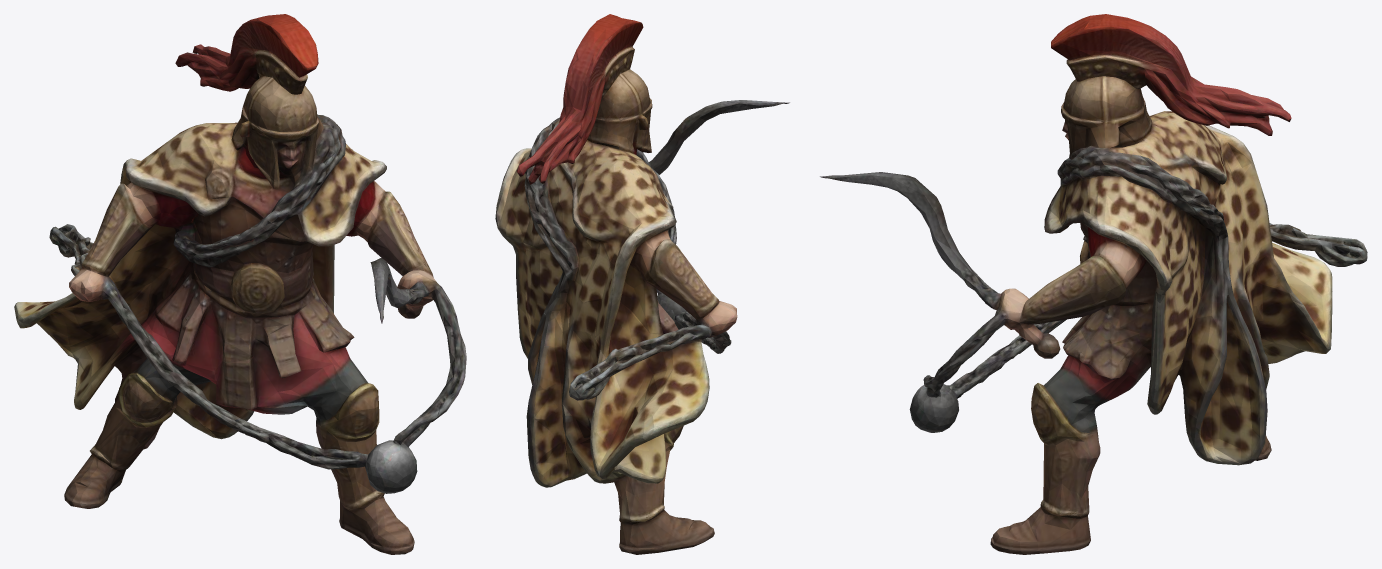
The model's file is chainSickleSkirmisher.glb.
3 renders of one model, left to right at view 1: azimuth 30°, elevation 25°; view 2: azimuth 150°, elevation 25°; view 3: azimuth 270°, elevation 25°, orthographic. The views are drawn at different scales.
Parts seen in each view (by area): view 1: world; view 2: world; view 3: world.
Part boxes in pixels (left/top/right/bottom): world: left=14, top=14, right=466, bottom=554; world: left=495, top=14, right=789, bottom=554; world: left=820, top=14, right=1367, bottom=554.
Bounding box in the file's own units: 0.6115 × 0.9986 × 0.9991.
1 material, 1 textured.
